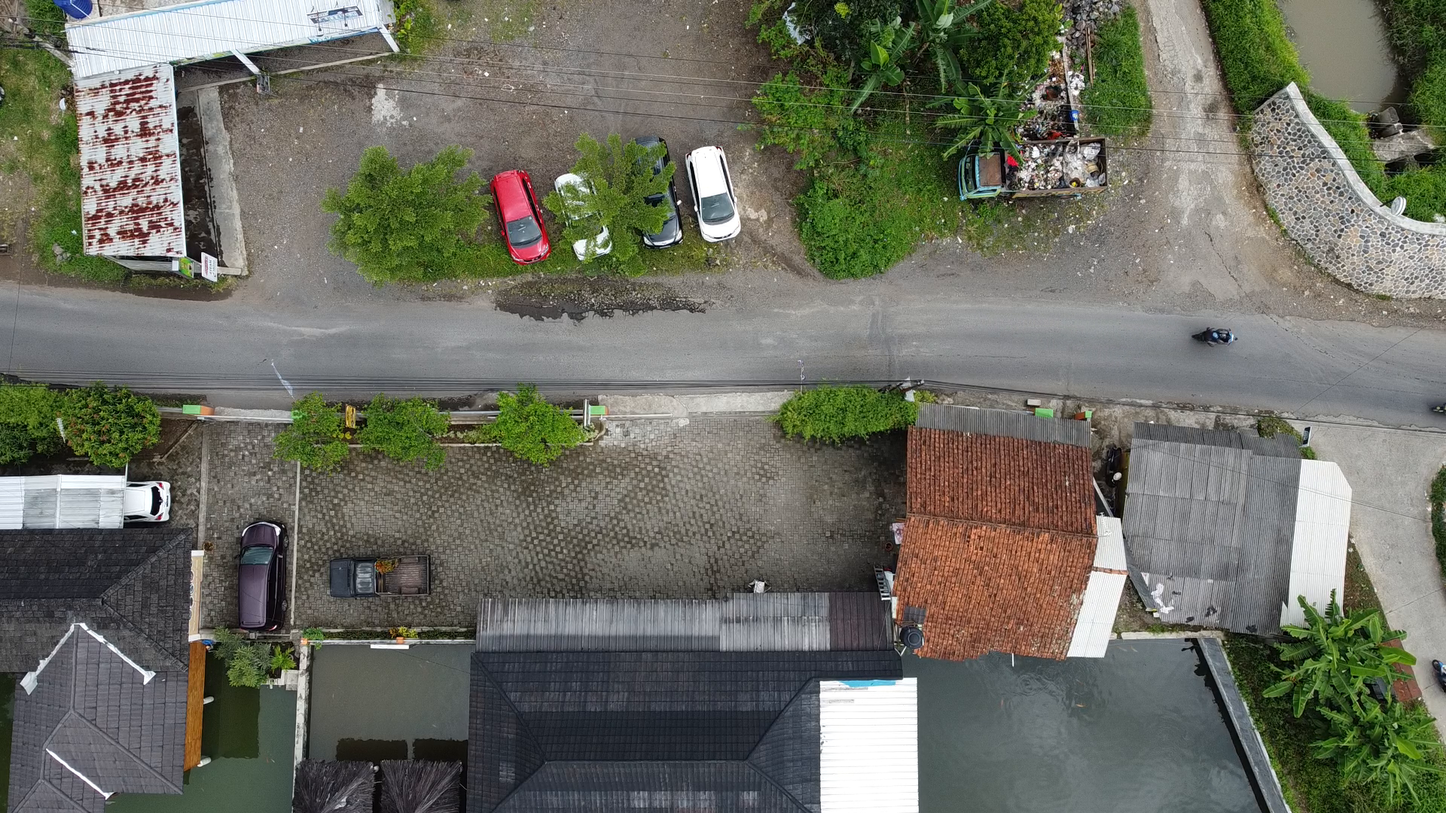mobil: (223, 506, 294, 653), (615, 120, 688, 254), (685, 127, 757, 257), (480, 163, 557, 276), (540, 172, 618, 265), (322, 547, 438, 605), (117, 476, 184, 531)
